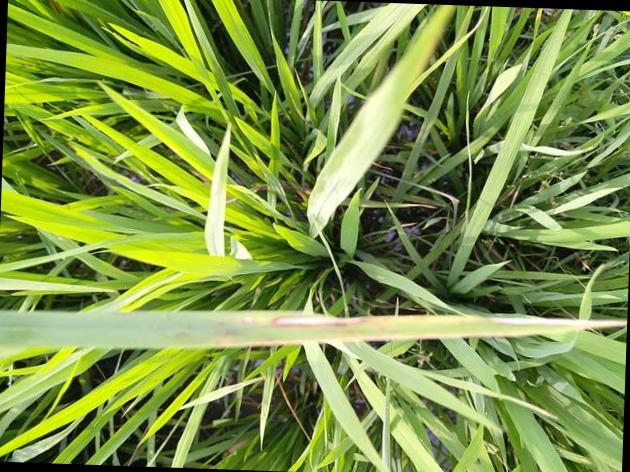Leaf Streak: (248, 310, 627, 339), (199, 334, 306, 347)
